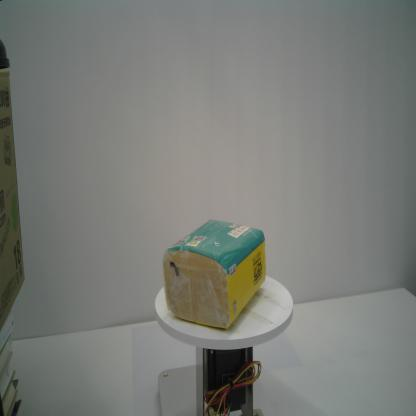Tissue: (160, 218, 267, 331)
